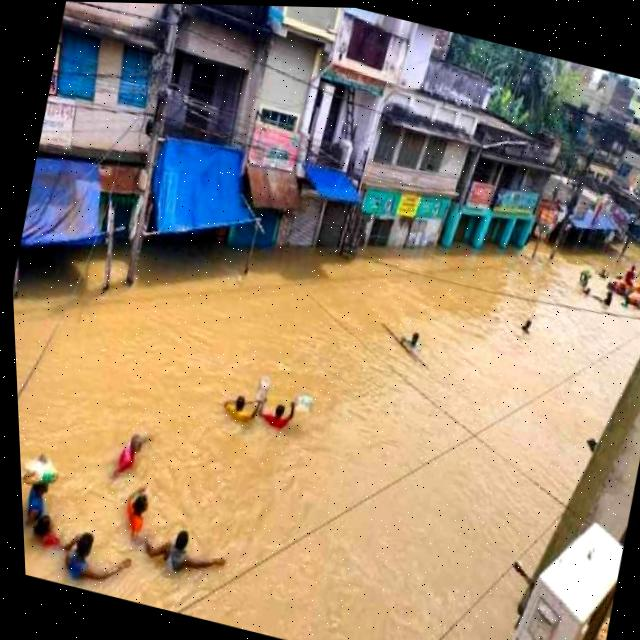civilian: (136, 517, 240, 589), (56, 521, 137, 595), (23, 507, 88, 563), (217, 383, 265, 434), (250, 390, 298, 438), (115, 485, 154, 543), (109, 425, 152, 473), (21, 470, 56, 526), (398, 321, 430, 355), (518, 310, 546, 338), (592, 260, 616, 286), (597, 286, 619, 314), (620, 261, 639, 288), (578, 282, 593, 304), (616, 292, 631, 310), (636, 258, 640, 295)
